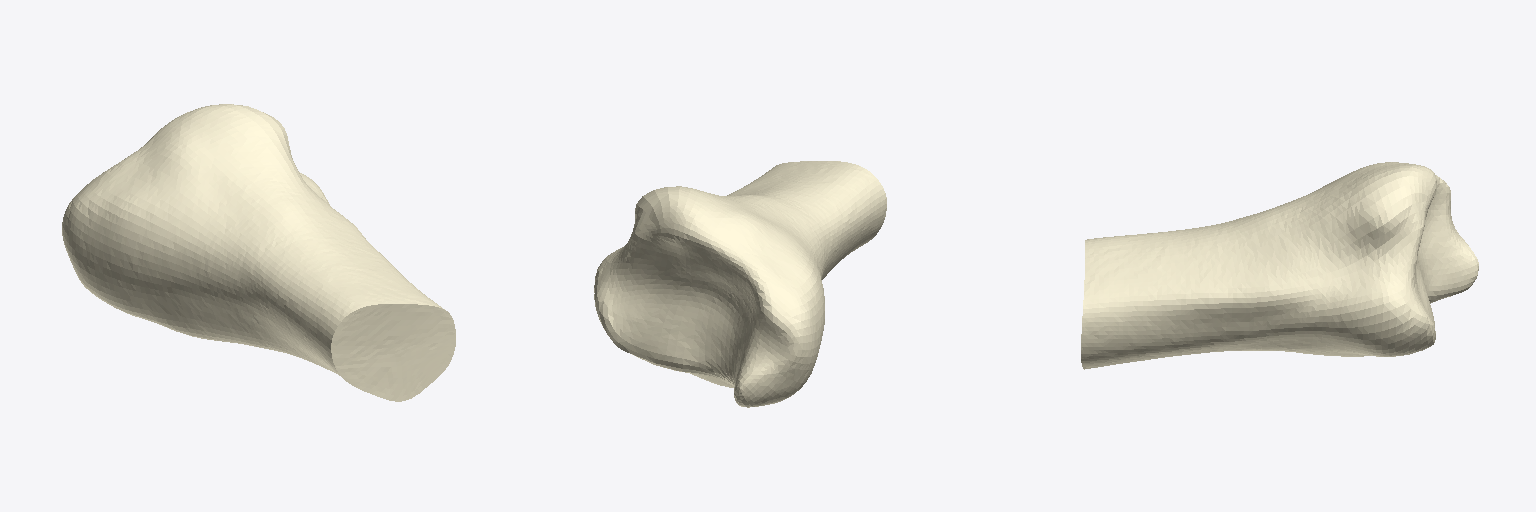
The model's file is Tibia.obj.
The picture shows the model from 3 angles: view 1: azimuth 30°, elevation 25°; view 2: azimuth 150°, elevation 25°; view 3: azimuth 270°, elevation 25°; orthographic projection.
Visible parts, largest first — view 1: Object_0Tibia; view 2: Object_0Tibia; view 3: Object_0Tibia.
Boxes of the visible parts, x1,y1,x2,y2 form: Object_0Tibia: [62, 104, 455, 401]; Object_0Tibia: [594, 161, 886, 407]; Object_0Tibia: [1081, 162, 1478, 369].
Size of the model in its own units: 60.34 by 49.32 by 90.37.